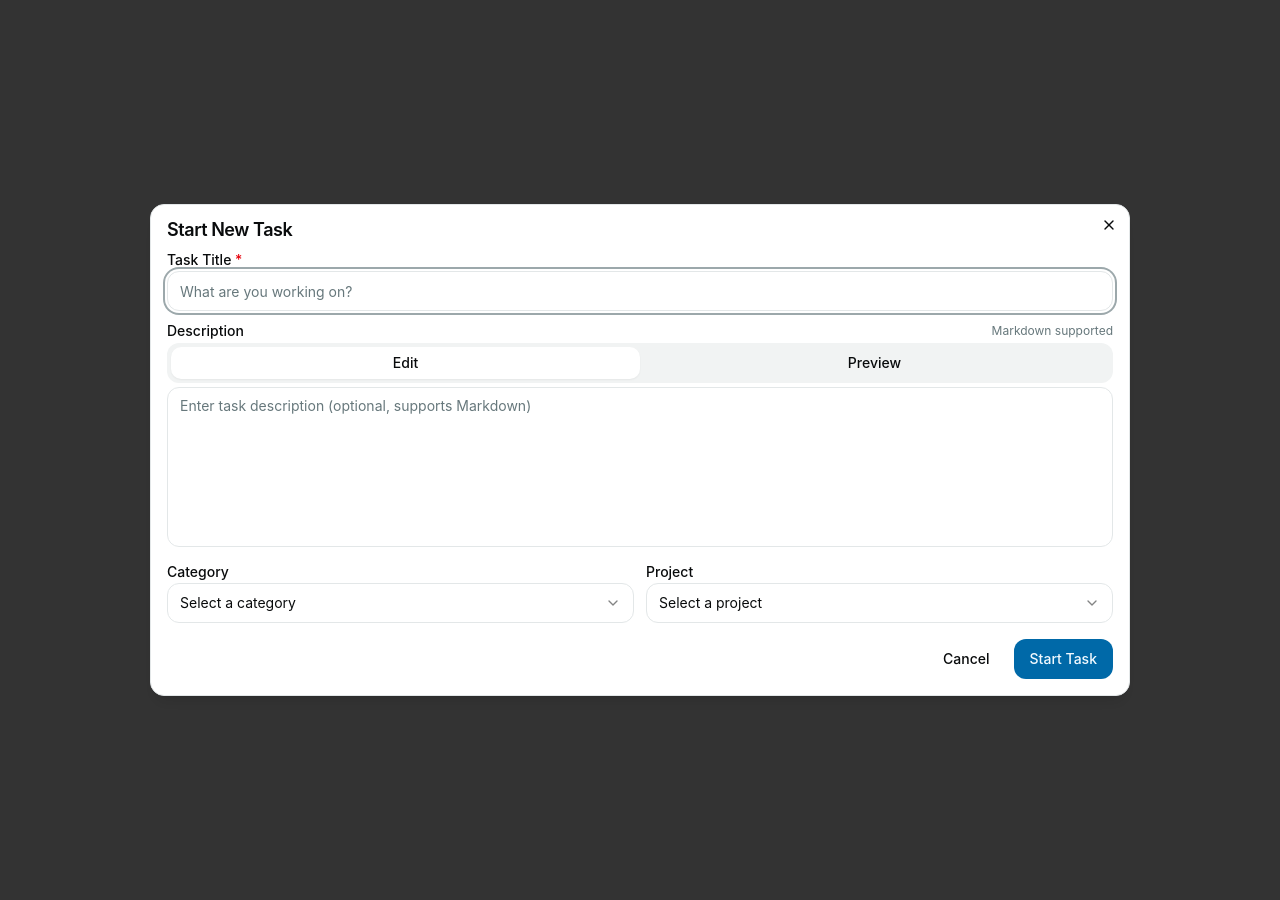
it: NewTaskForm › clears the form after successful submission
Step 1. Type "My task" into the field labelled "Task Title *" → (640, 291), box [167,271,1113,311]
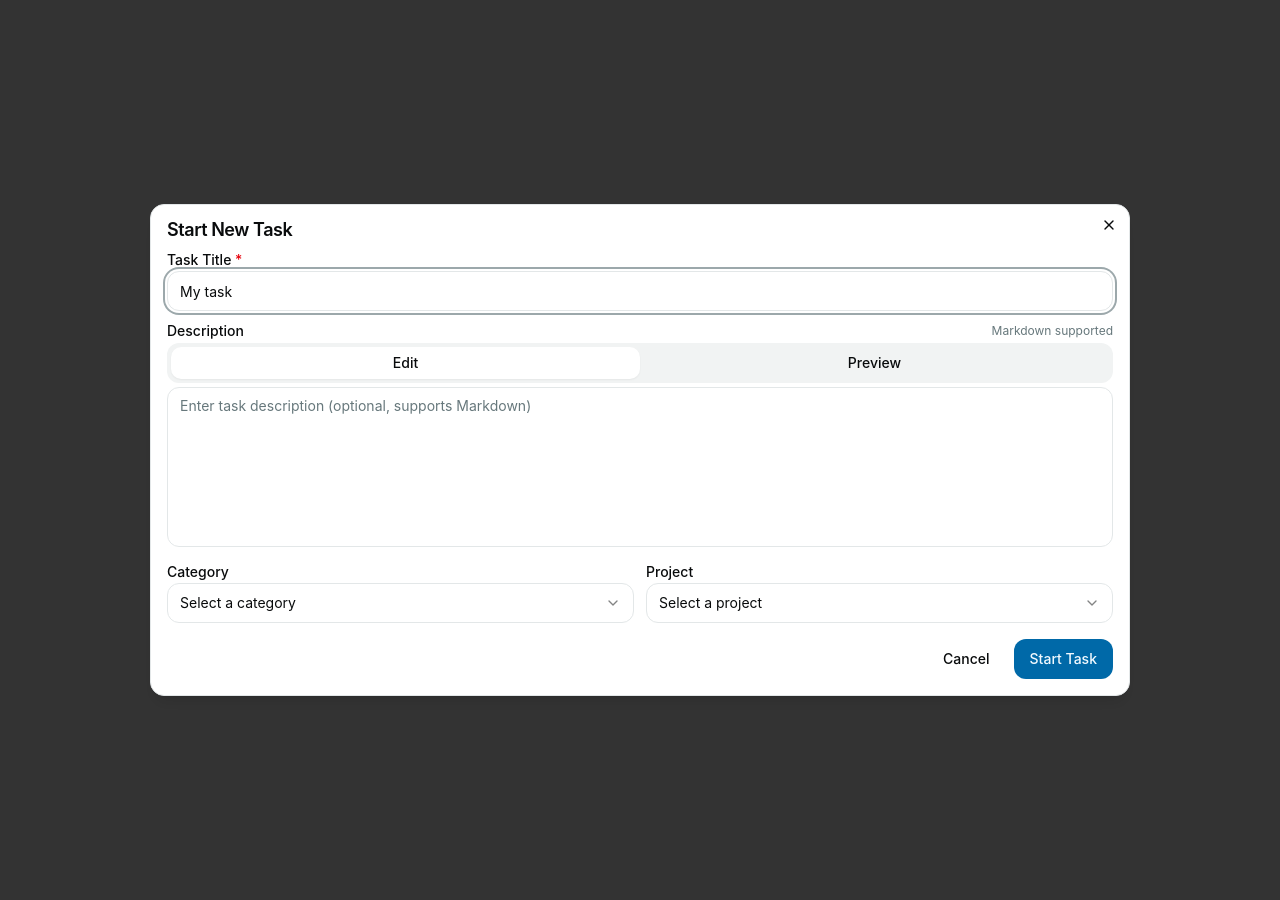
Step 2. Click the button "Start Task" → (1063, 659), box [1014,639,1113,679]
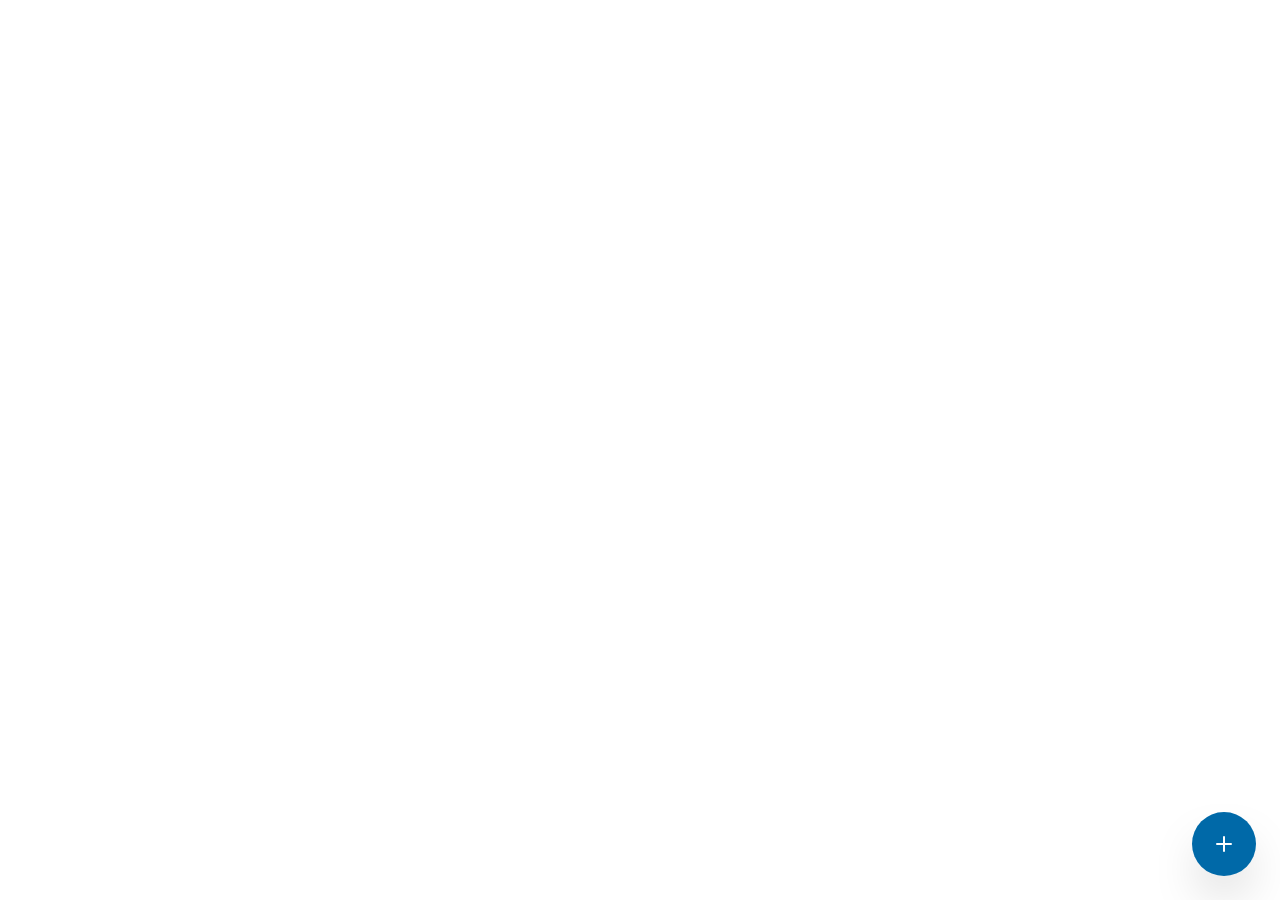
Expected: the label labelled "Task Title" is gone
